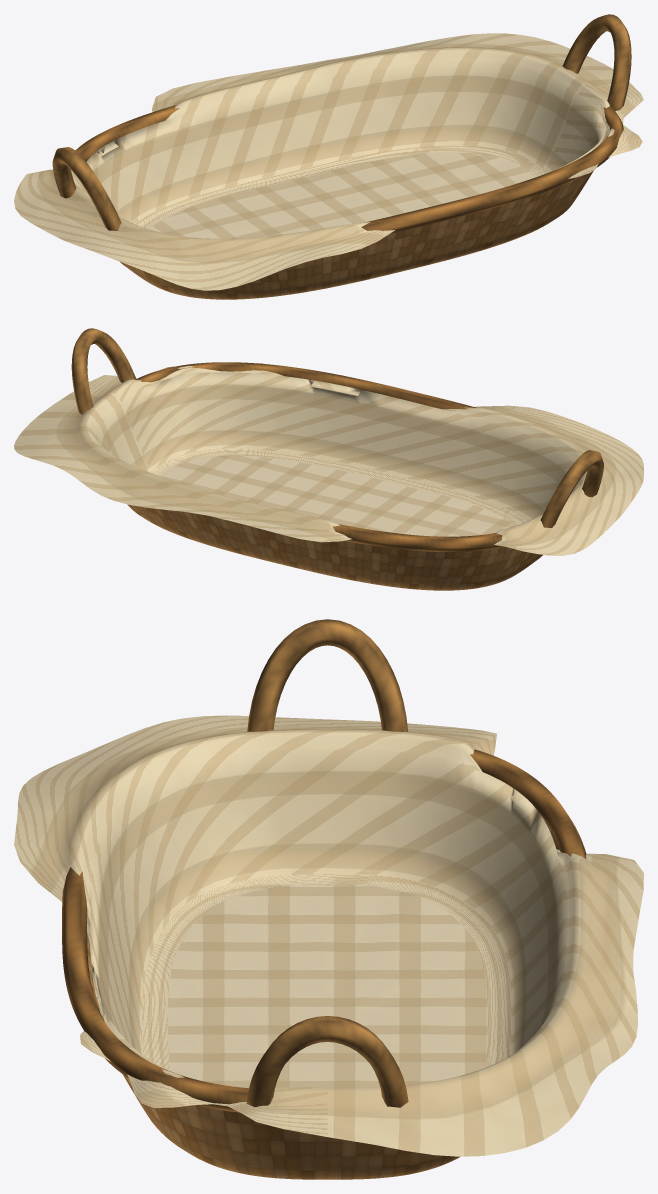
File: dog-cesta.glb
3 views of the same model, one above another, from view 1: azimuth 30°, elevation 25°; view 2: azimuth 150°, elevation 25°; view 3: azimuth 270°, elevation 25° (orthographic). The views are drawn at different scales.
Parts seen in each view (by area): view 1: dog_cesta_papel, dog_cesta_vime; view 2: dog_cesta_papel, dog_cesta_vime; view 3: dog_cesta_papel, dog_cesta_vime.
Boxes of the visible parts, x1,y1,x2,y2 form: dog_cesta_papel: (14,33,643,290); dog_cesta_vime: (52,14,631,299); dog_cesta_papel: (14,363,643,555); dog_cesta_vime: (71,328,603,590); dog_cesta_papel: (14,715,643,1156); dog_cesta_vime: (62,619,586,1179).
Size of the model in its own units: 0.3908 by 0.0898 by 0.2403.
3 materials, 2 textured.
